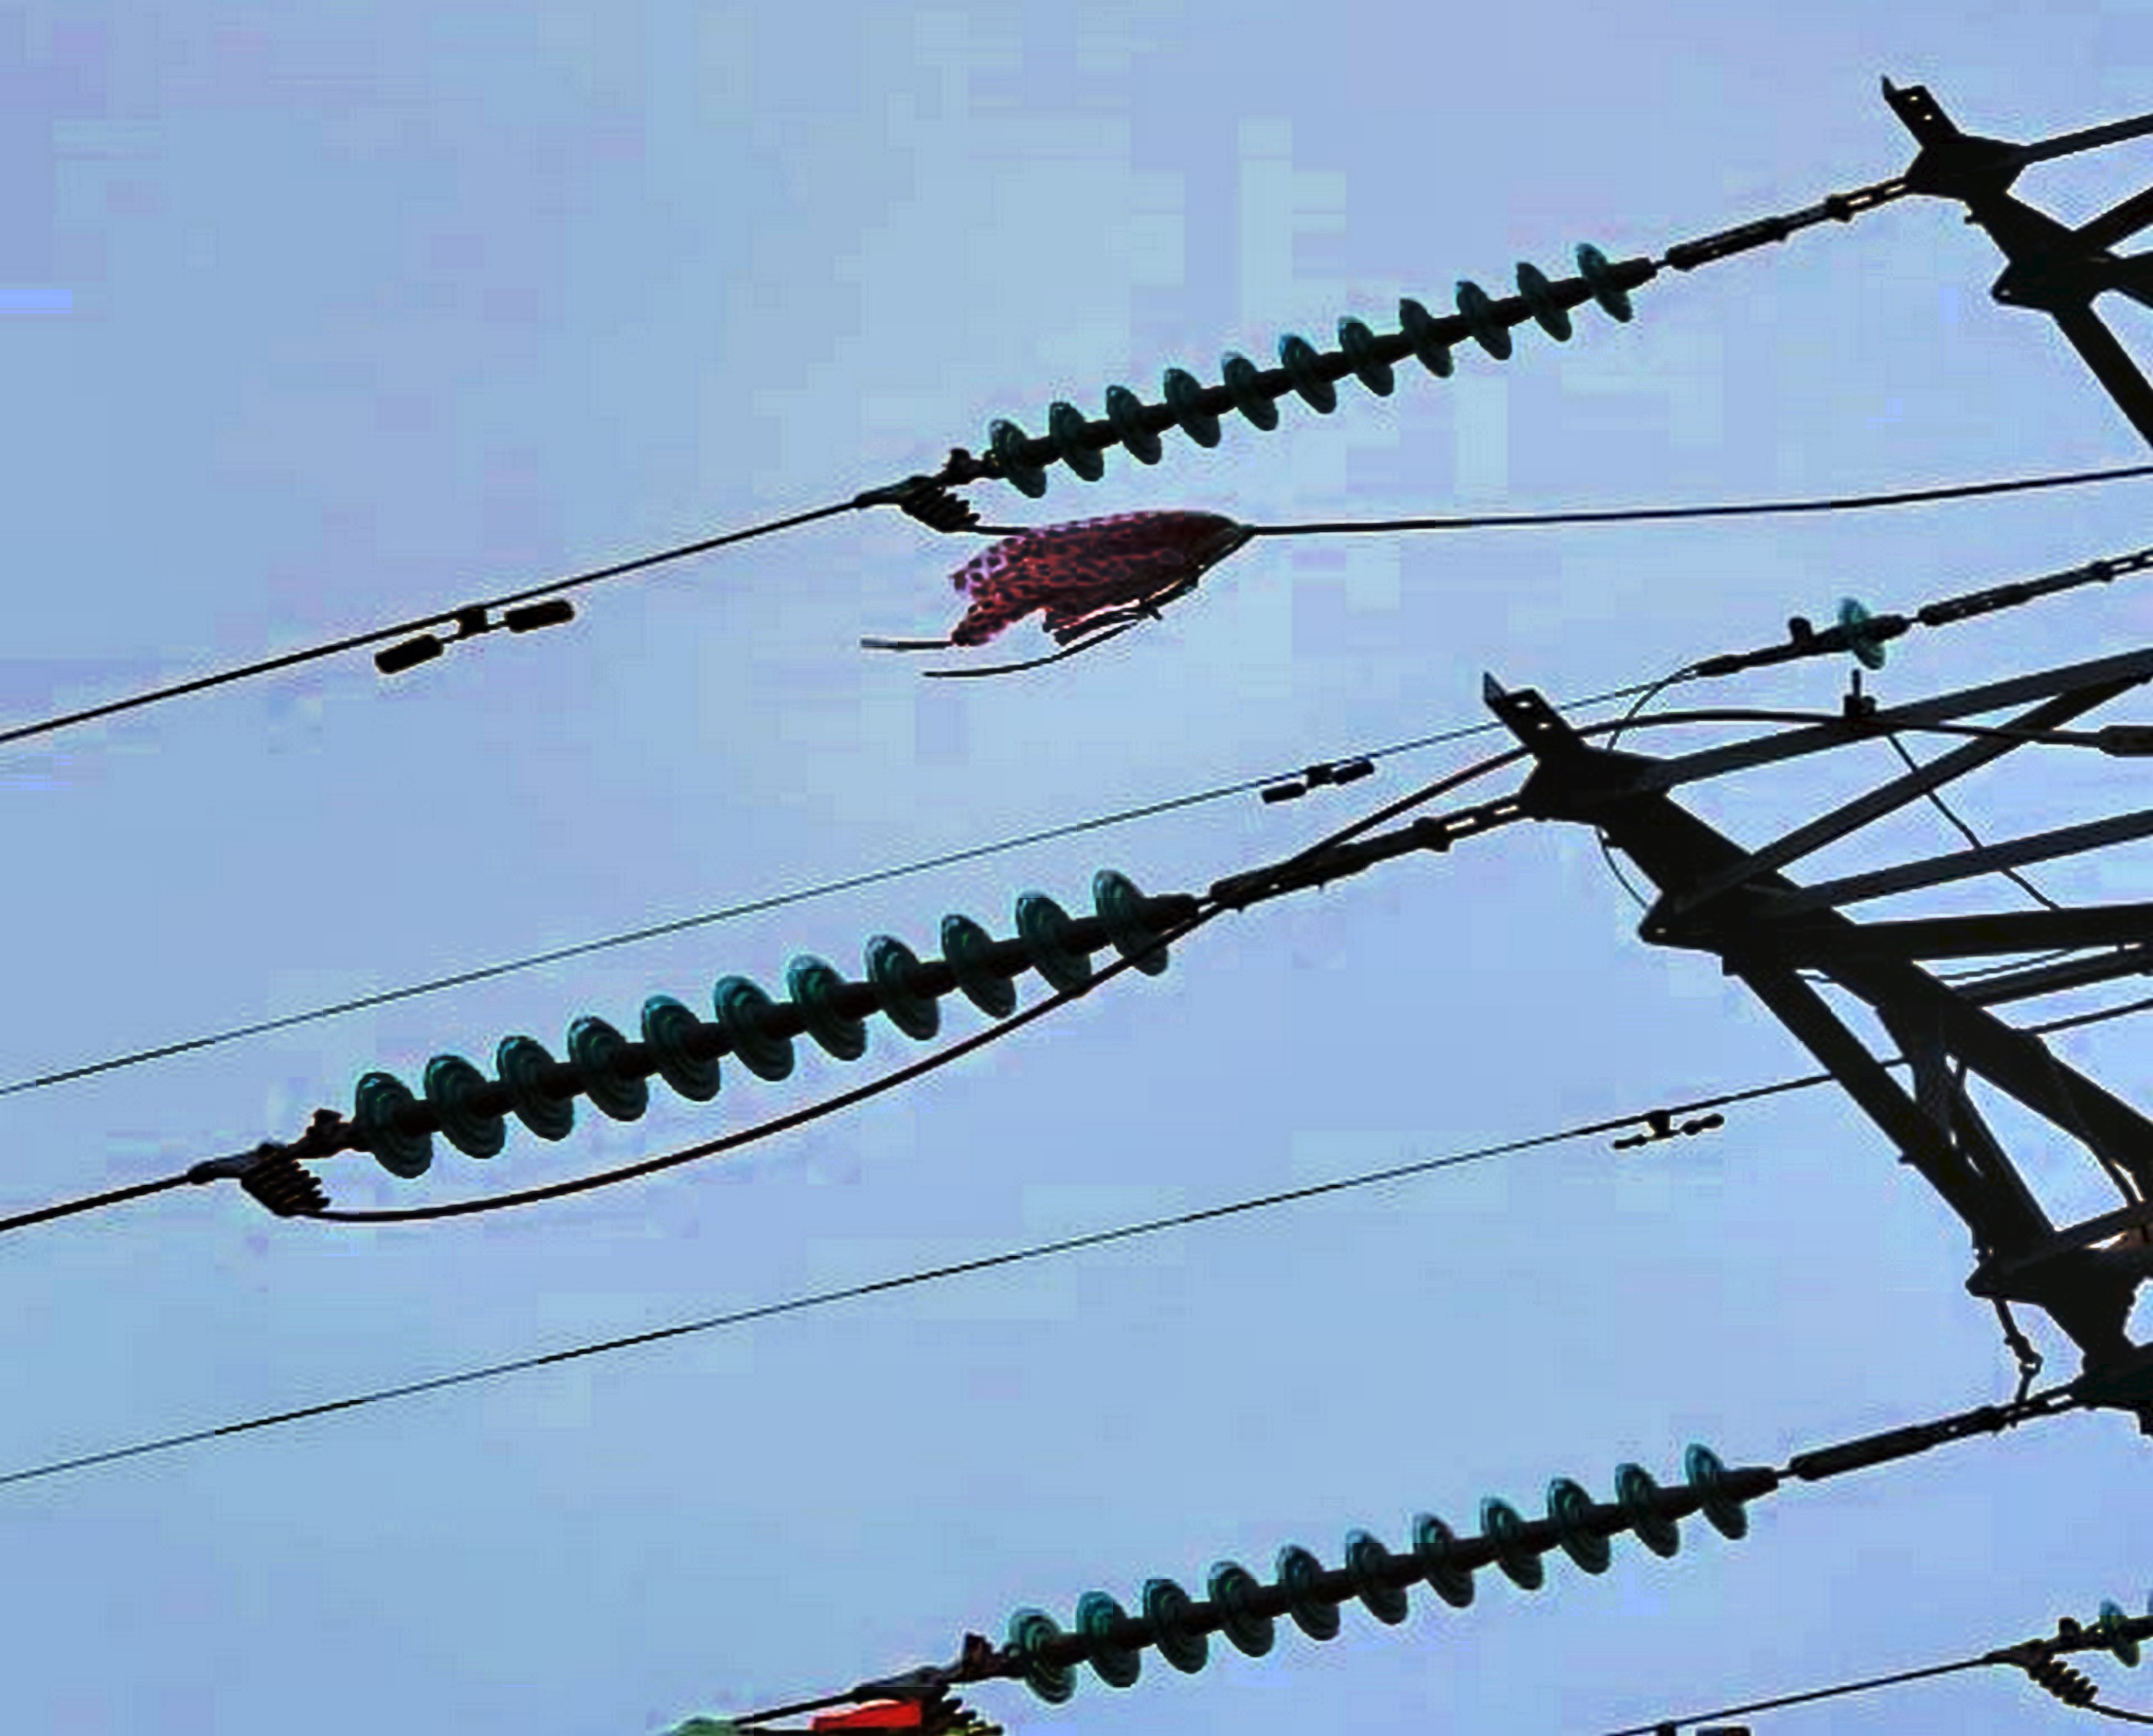wire foreign body: (862, 477, 1269, 705)
